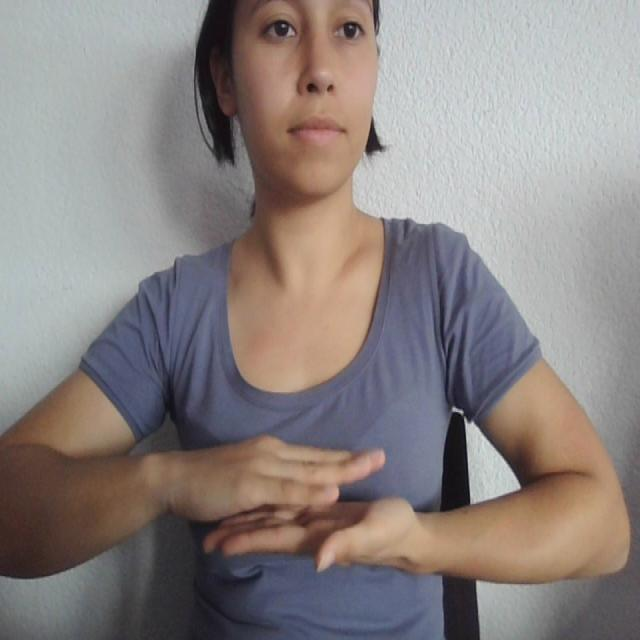Arkadas: (128, 417, 535, 604)
